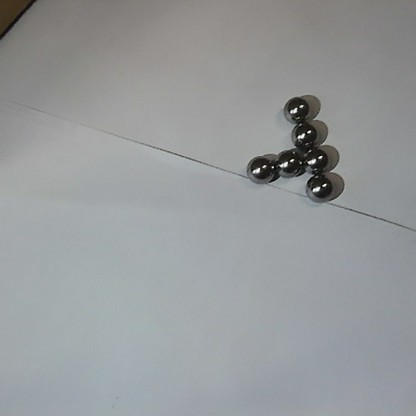ironball: (242, 155, 273, 184), (301, 144, 329, 176), (304, 174, 336, 202), (273, 146, 301, 175), (283, 96, 311, 123), (289, 121, 319, 146)
